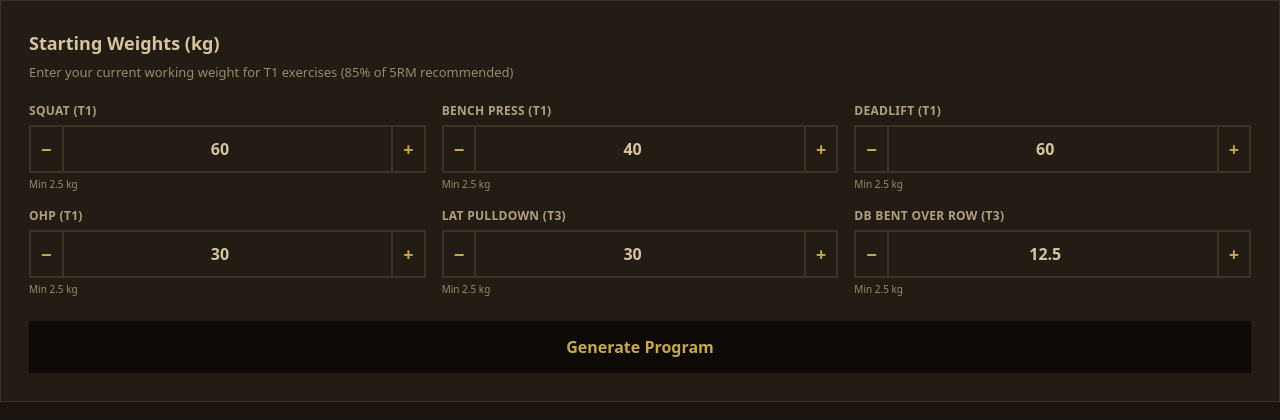
Scenario: SetupForm › validation › should show error when a field is empty
The image size is (1280, 420).
Clear the number field labelled "Squat (T1)": (227, 148) [62,124,393,172]
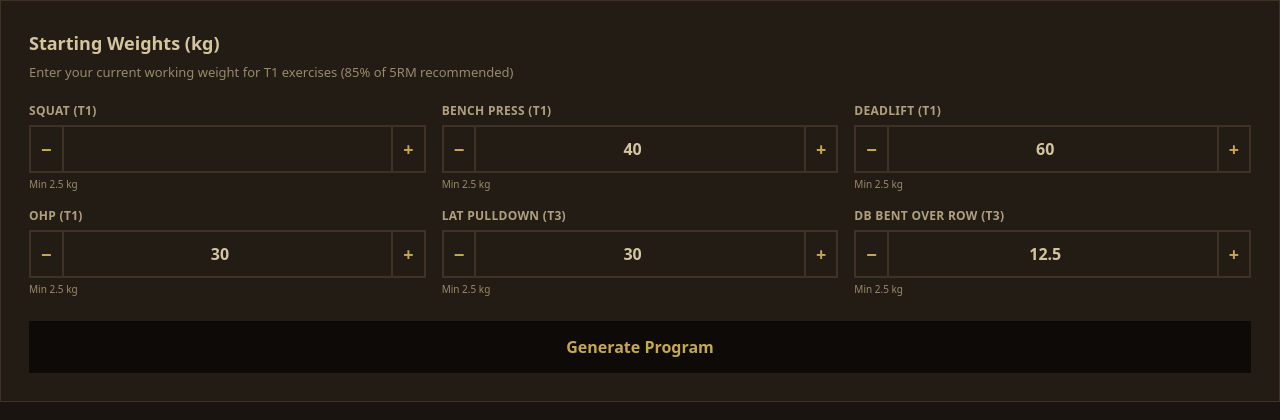
Leave the number field labelled "Squat (T1)", box [62,124,393,172]
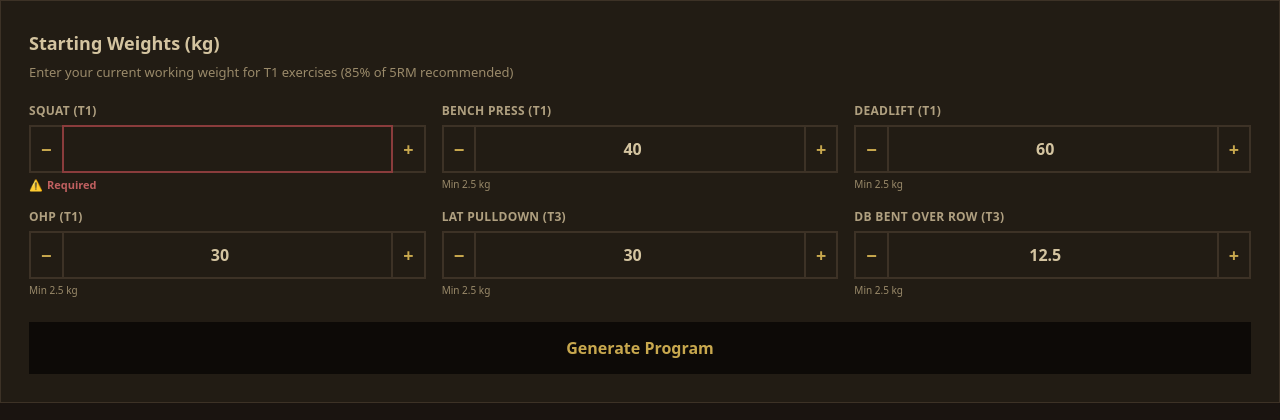
Expected: the text "Required" is shown, [47,176,96,192]
